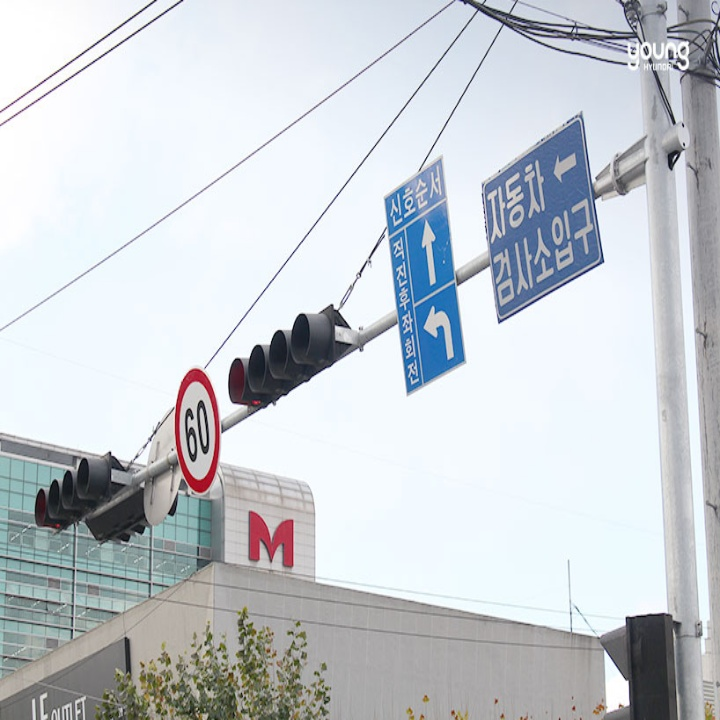left: (412, 300, 460, 363)
